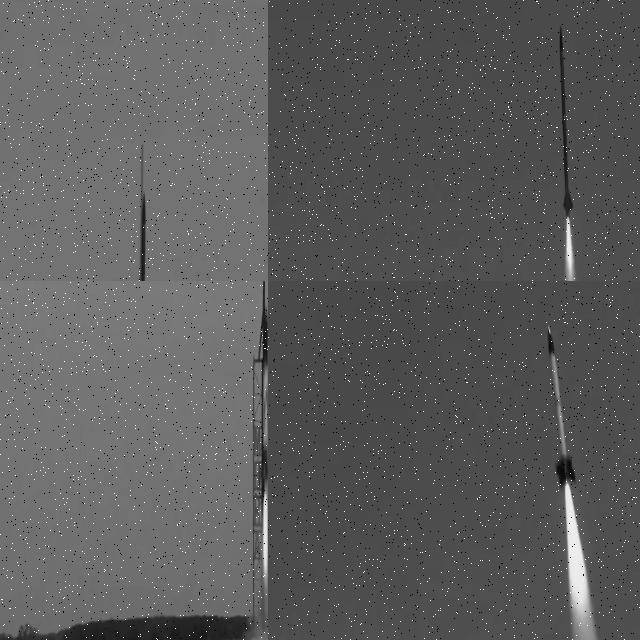Rocket: (547, 326, 577, 488), (558, 27, 576, 223), (257, 307, 268, 496), (138, 195, 147, 281)
